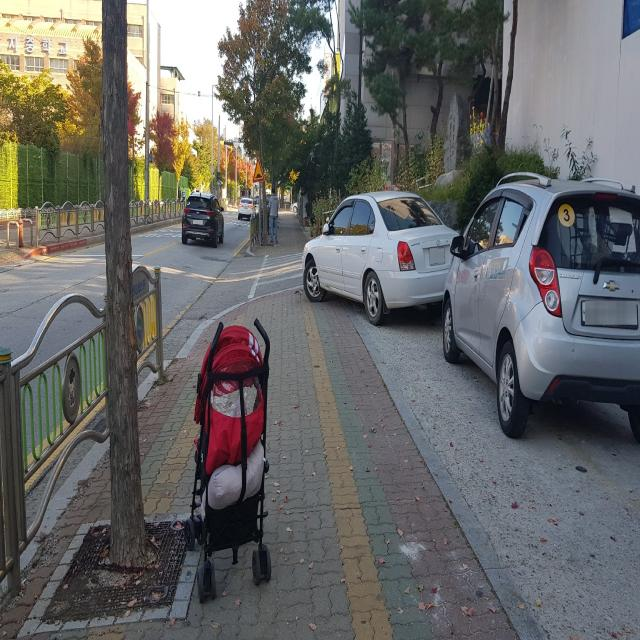횡단보도: (255, 252, 304, 286)
